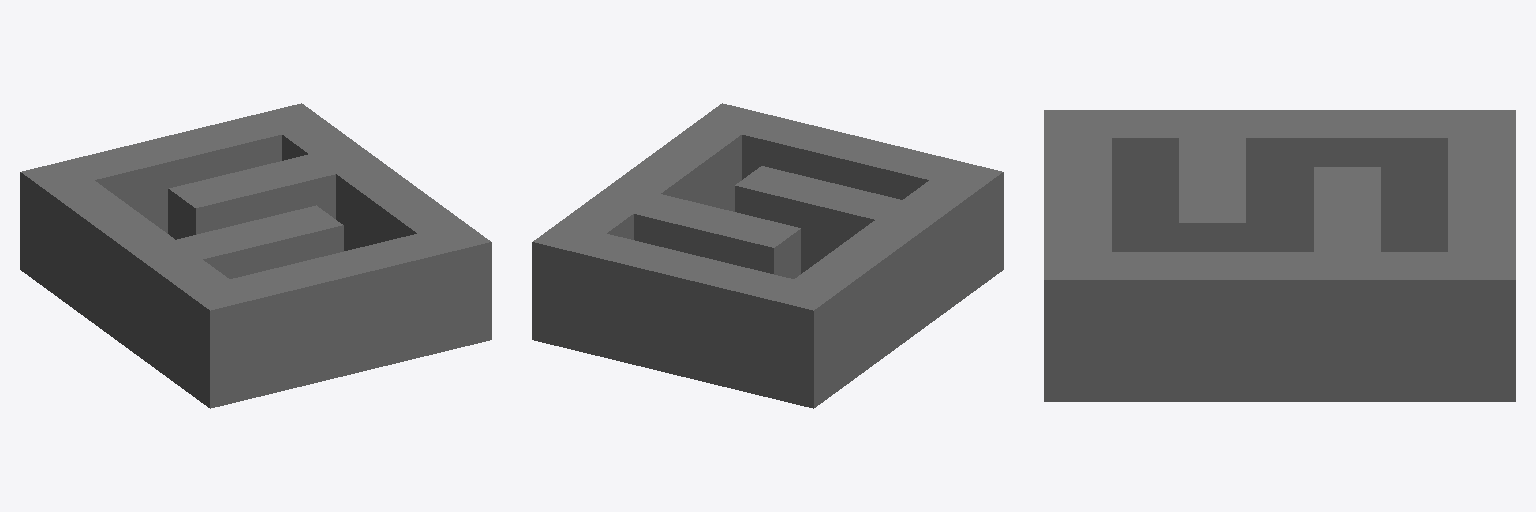
URDF robot description (drone_maze_3x):
<?xml version="1.0" ?>
<robot name="drone_maze_3x">
  
  <link name="base_link">
    <contact>
      <lateral_friction value="1.0"/>
    </contact>
    <inertial>
      <origin rpy="0 0 0" xyz="0 0 0"/>
      <mass value="0.0"/>
      <inertia ixx="0" ixy="0" ixz="0" iyy="0" iyz="0" izz="0"/>
    </inertial>

    <visual>
      <origin rpy="0 0 0" xyz="4.5 -3.0 3.0"/>
      <geometry>
        <box size="18.0 3.0 6.0"/>
      </geometry>
      <material name="wall_color">
        <color rgba="0.5 0.5 0.5 1"/>
      </material>
    </visual>
    <collision>
      <origin rpy="0 0 0" xyz="4.5 -3.0 3.0"/>
      <geometry>
        <box size="18.0 3.0 6.0"/>
      </geometry>
    </collision>

    <visual>
      <origin rpy="0 0 0" xyz="4.5 15.0 3.0"/>
      <geometry>
        <box size="18.0 3.0 6.0"/>
      </geometry>
      <material name="wall_color"/>
    </visual>
    <collision>
      <origin rpy="0 0 0" xyz="4.5 15.0 3.0"/>
      <geometry>
        <box size="18.0 3.0 6.0"/>
      </geometry>
    </collision>

    <visual>
      <origin rpy="0 0 0" xyz="-3.0 6.0 3.0"/>
      <geometry>
        <box size="3.0 15.0 6.0"/>
      </geometry>
      <material name="wall_color"/>
    </visual>
    <collision>
      <origin rpy="0 0 0" xyz="-3.0 6.0 3.0"/>
      <geometry>
        <box size="3.0 15.0 6.0"/>
      </geometry>
    </collision>

    <visual>
      <origin rpy="0 0 0" xyz="12.0 6.0 3.0"/>
      <geometry>
        <box size="3.0 15.0 6.0"/>
      </geometry>
      <material name="wall_color"/>
    </visual>
    <collision>
      <origin rpy="0 0 0" xyz="12.0 6.0 3.0"/>
      <geometry>
        <box size="3.0 15.0 6.0"/>
      </geometry>
    </collision>

    <visual>
      <origin rpy="0 0 0" xyz="3.0 3.0 3.0"/>
      <geometry>
        <box size="9.0 3.0 6.0"/>
      </geometry>
      <material name="wall_color"/>
    </visual>
    <collision>
      <origin rpy="0 0 0" xyz="3.0 3.0 3.0"/>
      <geometry>
        <box size="9.0 3.0 6.0"/>
      </geometry>
    </collision>

    <visual>
      <origin rpy="0 0 0" xyz="6.0 9.0 3.0"/>
      <geometry>
        <box size="9.0 3.0 6.0"/>
      </geometry>
      <material name="wall_color"/>
    </visual>
    <collision>
      <origin rpy="0 0 0" xyz="6.0 9.0 3.0"/>
      <geometry>
        <box size="9.0 3.0 6.0"/>
      </geometry>
    </collision>

  </link>
</robot>

--- Render facts (derived) ---
3 views of the same robot in one strip: view 1: azimuth 30°, elevation 25°; view 2: azimuth 150°, elevation 25°; view 3: azimuth 270°, elevation 25° (orthographic).
Model drone_maze_3x with 1 links and 0 joints (none), rooted at base_link, posed every joint at zero.
Visible links, largest first — view 1: base_link; view 2: base_link; view 3: base_link.
Link boxes in pixels (box(x1,y1,x2,y2)): base_link: box(20, 103, 491, 408); base_link: box(532, 103, 1003, 408); base_link: box(1044, 110, 1515, 401).
Bounding box of the posed robot: 18 × 21 × 6 m (x, y, z).
Geometry: primitives only (box / cylinder / sphere), no mesh files.